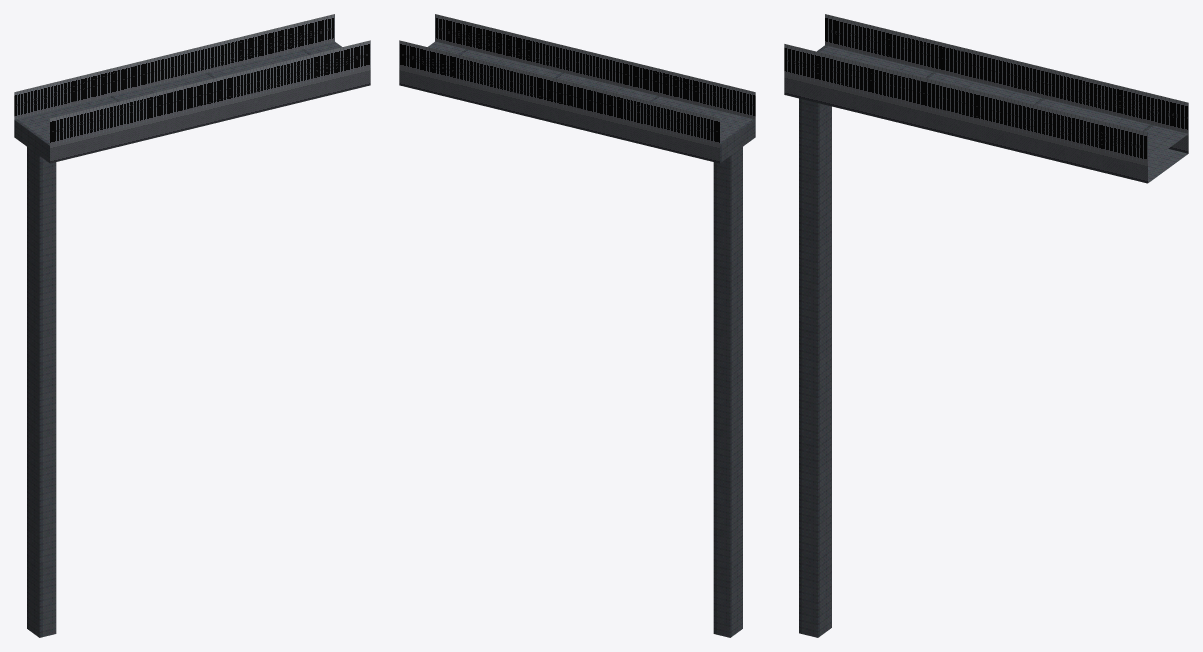
File: mtn_footbridge.glb
3 renders of one model, left to right at view 1: azimuth 30°, elevation 25°; view 2: azimuth 150°, elevation 25°; view 3: azimuth 330°, elevation 25°, orthographic. The views are drawn at different scales.
Visible parts, largest first — view 1: mtn_footbridge; view 2: mtn_footbridge; view 3: mtn_footbridge.
Part boxes in pixels (x1,y1,x2,y2): mtn_footbridge: [14, 14, 370, 637]; mtn_footbridge: [399, 14, 755, 637]; mtn_footbridge: [784, 14, 1188, 637].
Bounding box in the file's own units: 13.4 × 21.1 × 2.6.
4 materials, 4 textured.
